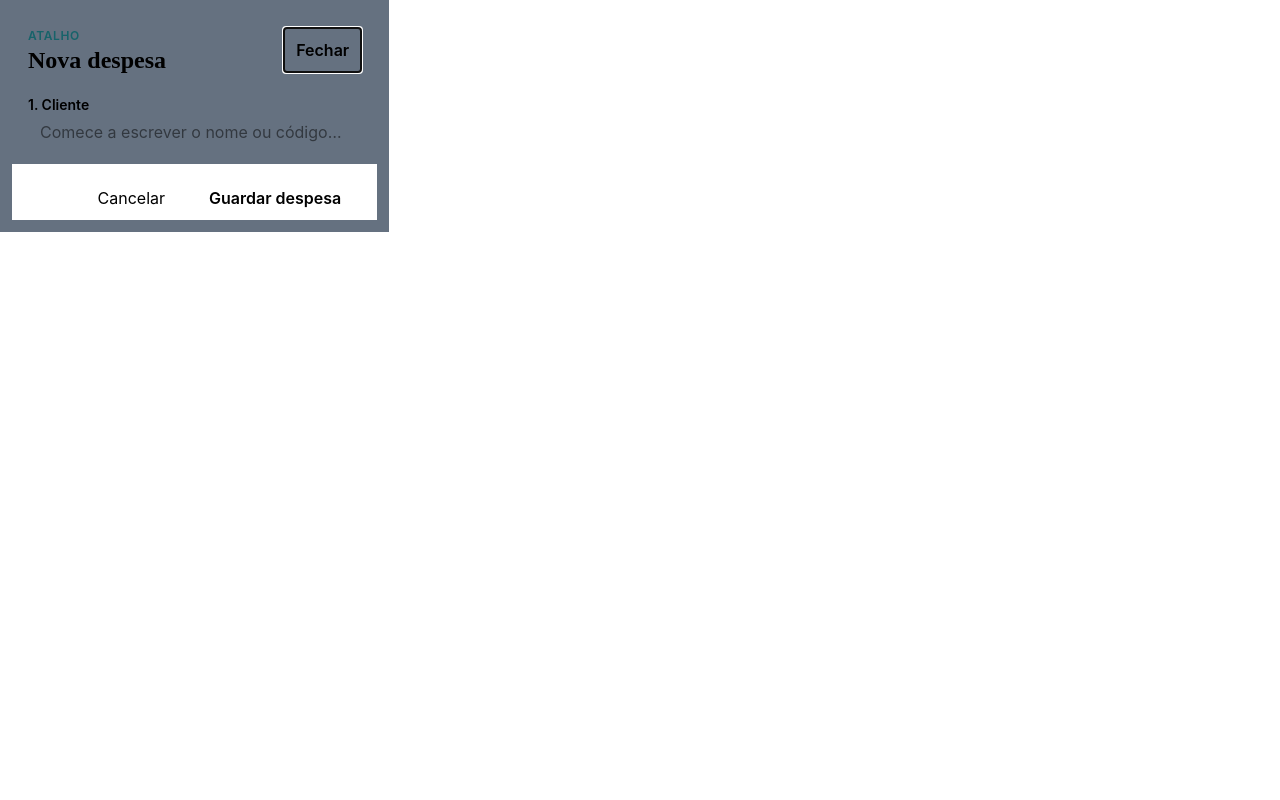
Test: sugere clientes ao escrever e exige escolher uma vertente antes de guardar
Type "sintetico" into the dropdown named "Cliente e vertente" at x=195, y=132, box [28,120,361,144]
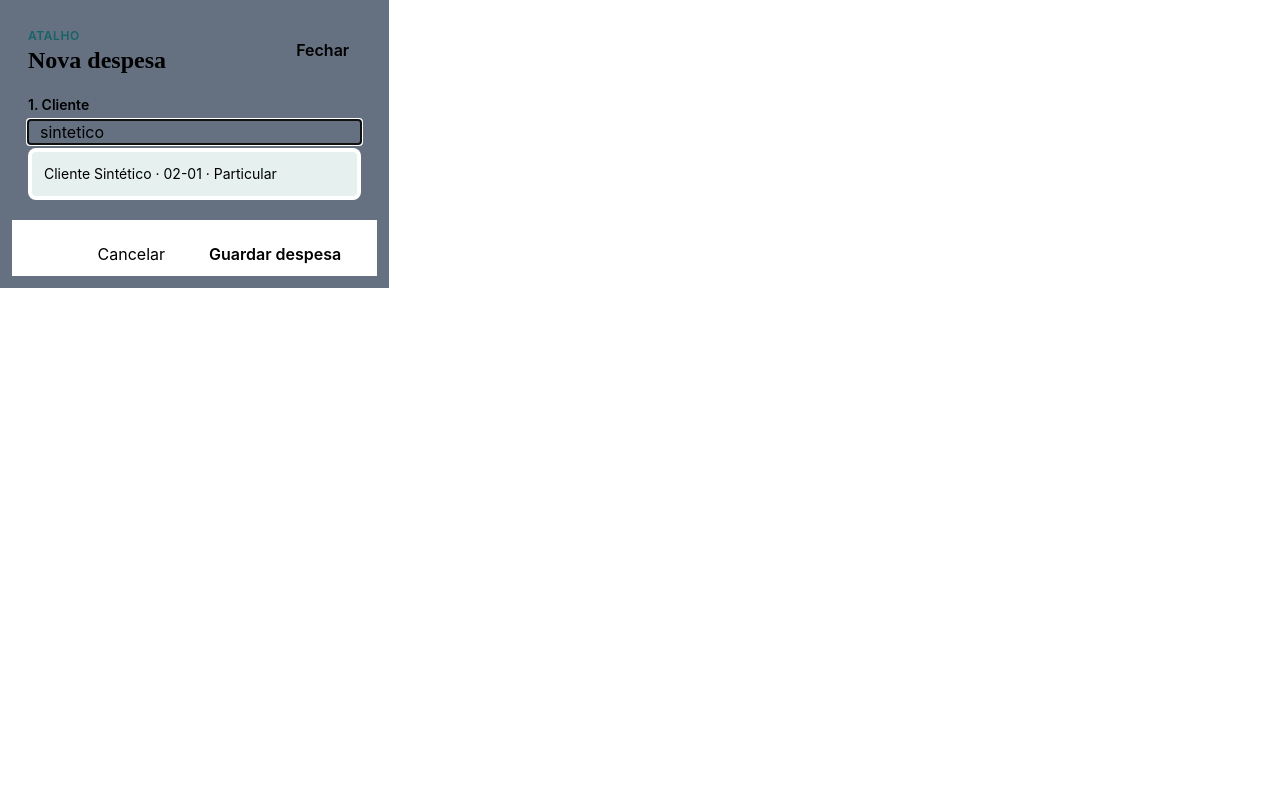
Expected: the button "Guardar despesa" is disabled, [189,232,361,276]
Now the option "Cliente Sintético · 02-01 · Particular" is shown
Click the option "Cliente Sintético · 02-01 · Particular" at x=195, y=174, box [32,152,357,196]
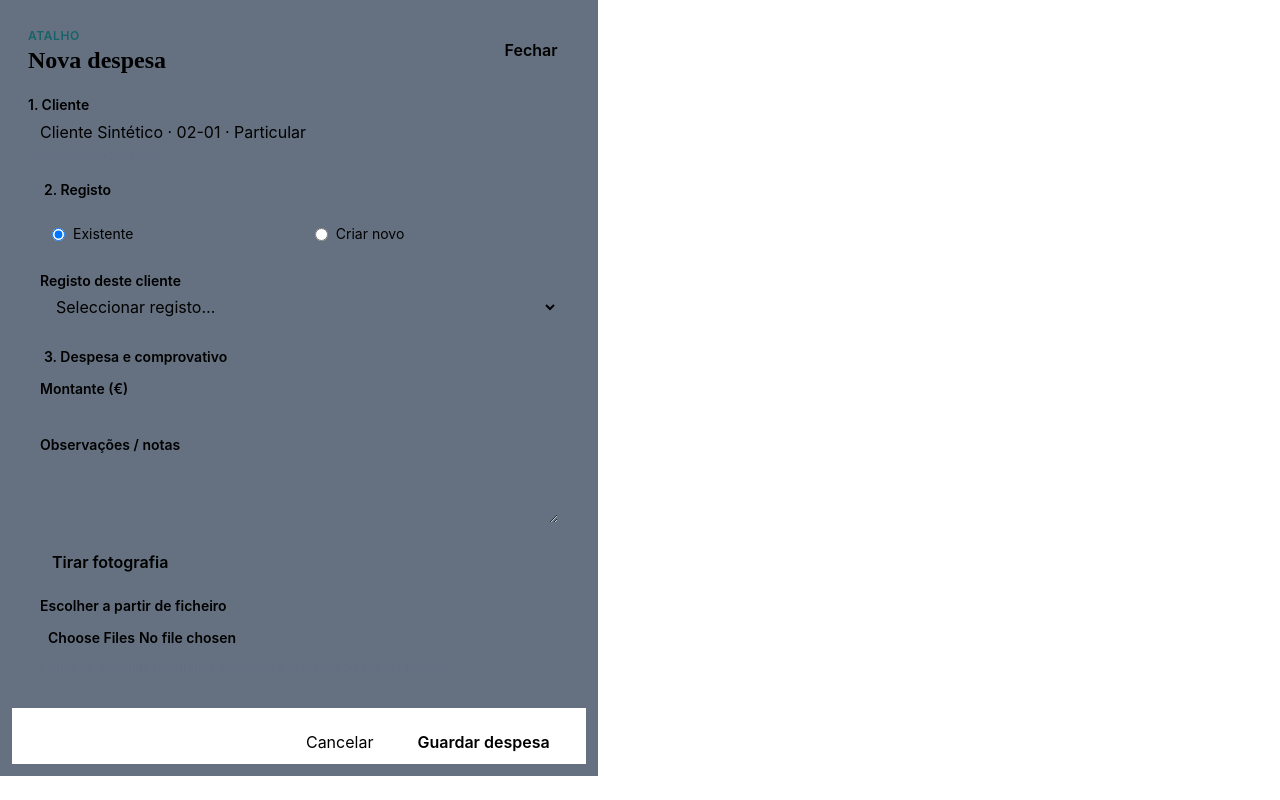
Now the list is gone
Now the dropdown labelled "Registo deste cliente" is shown, box [40,296,558,318]
Clear the dropdown named "Cliente e vertente" at x=299, y=132, box [28,120,570,144]
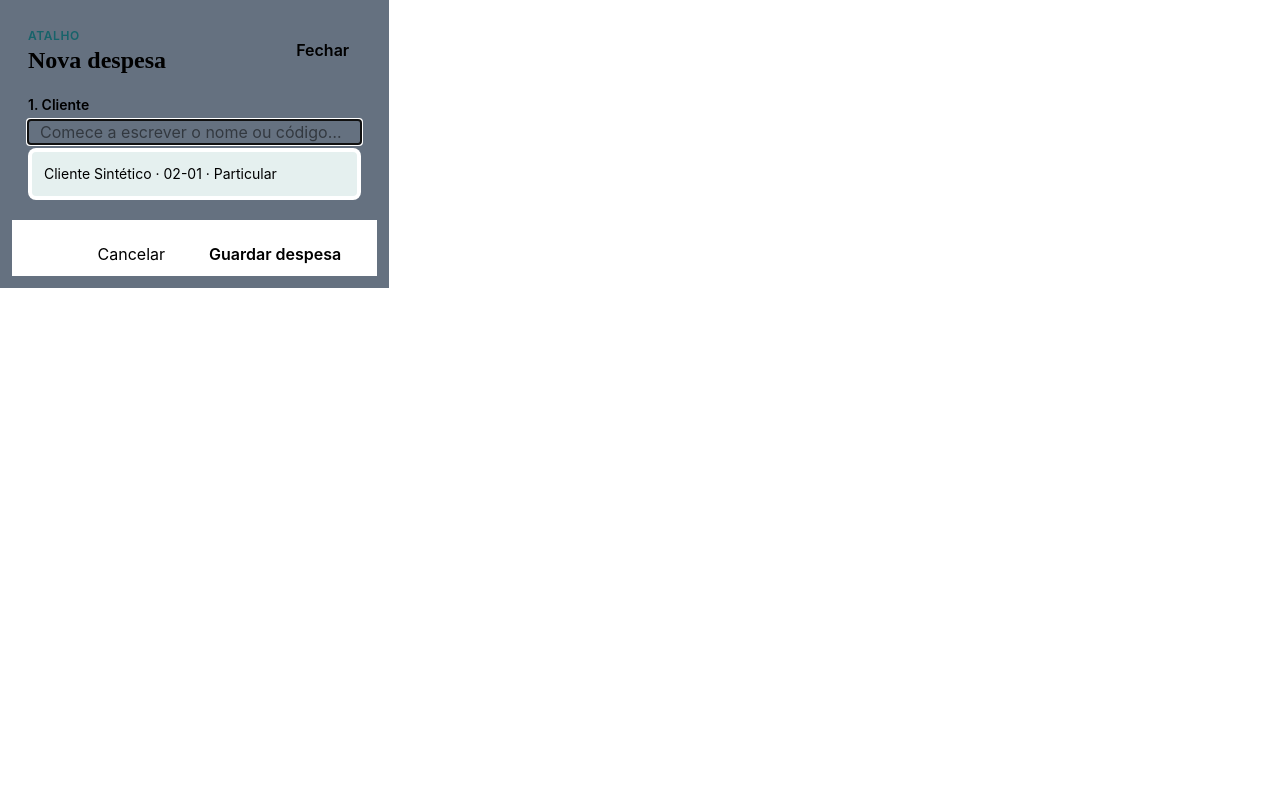
Type "inexistente" into the dropdown named "Cliente e vertente" at x=195, y=132, box [28,120,361,144]
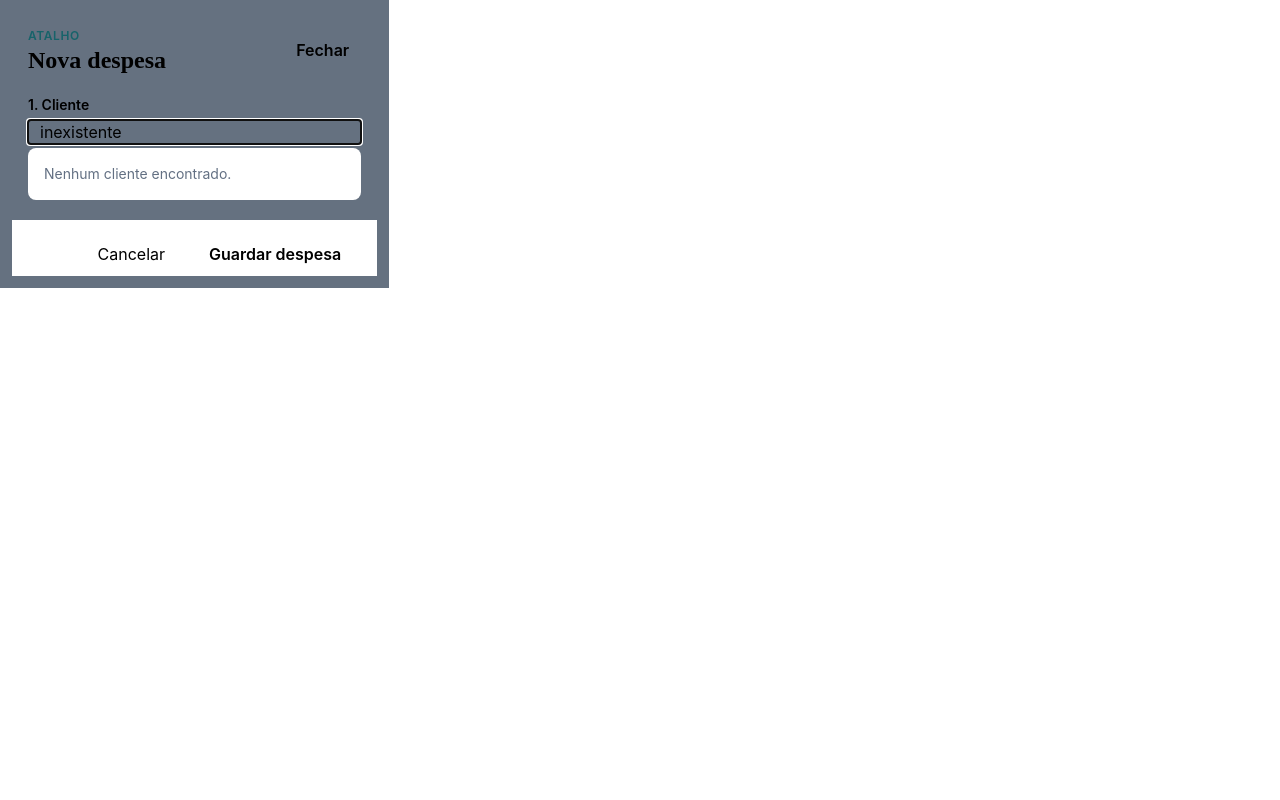
Expected: the label labelled "Registo deste cliente" is not shown
Now the text "Nenhum cliente encontrado." is shown, box [44,165,231,182]
